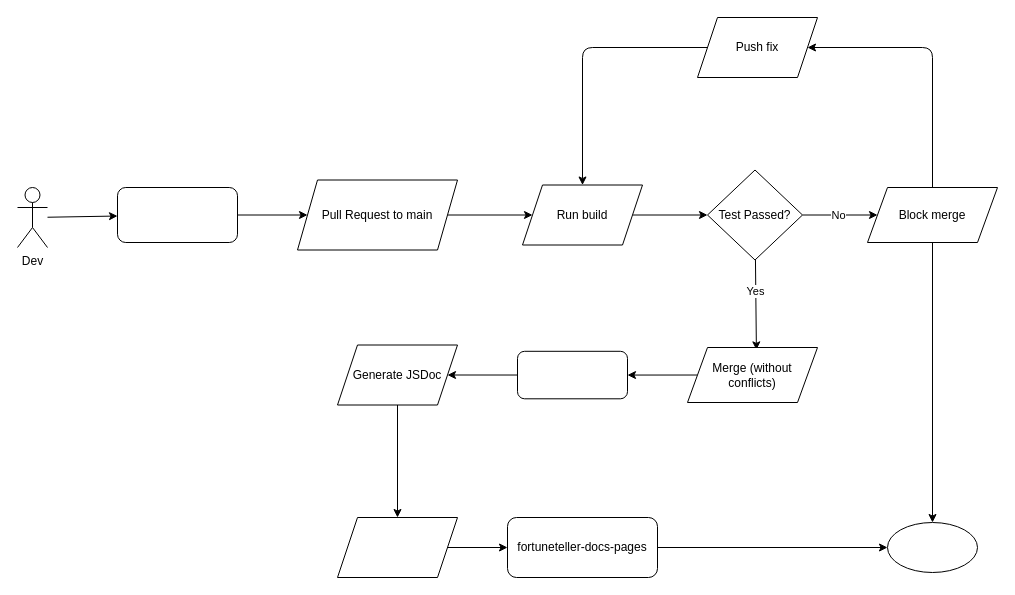
Image size: 1015x595. Some labels were removed from this diagram. The centre of each missing label's shape, as x and y in pixels:
Deploy JSDoc: the point at 397,547
End: the point at 932,547
feature branch: the point at 177,214
main: the point at 572,374
